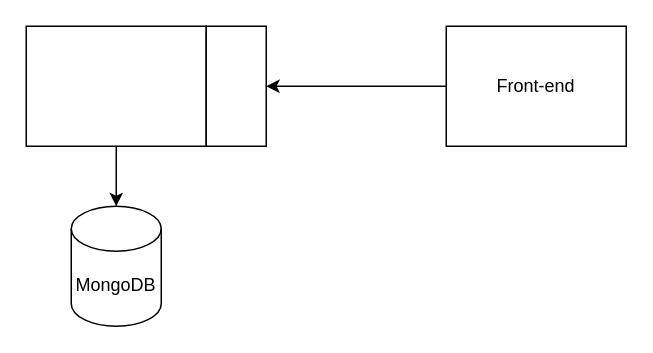
The diagram is 653 pixels wide and 353 high, and some of its shapes have lost their labels. The shapes that lost their labels are listed below. From the top down, each one's box as (x1, y1, x2, y2) in pixels, then its label:
(25, 25, 206, 146): Back-end
(205, 25, 266, 146): REST API
